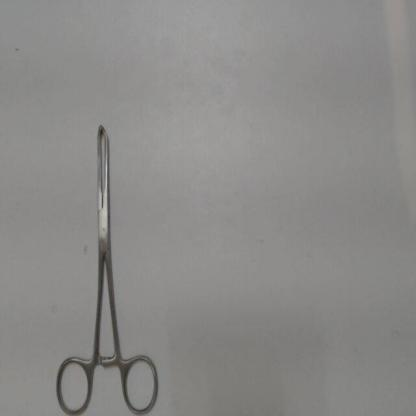Allis Tissue Forceps: (51, 112, 164, 415)
